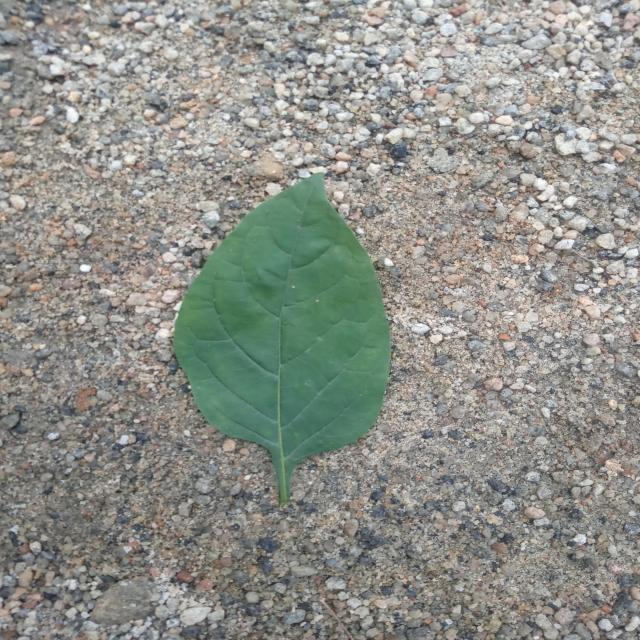ganike: (173, 174, 390, 504)
